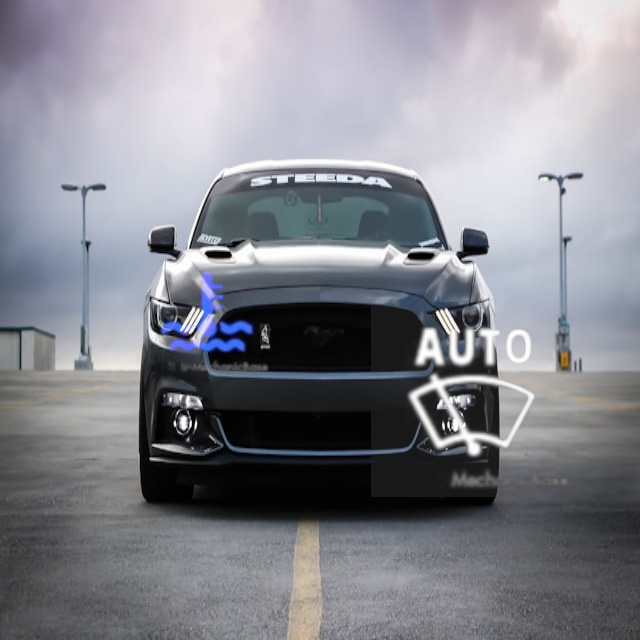symbol: (371, 291, 577, 497), (140, 245, 273, 378)
